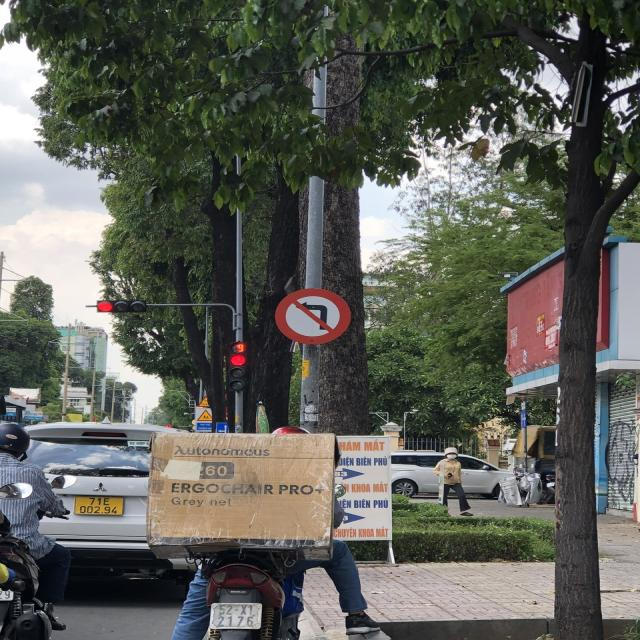Bien bao cam re trai: (270, 283, 356, 347)
